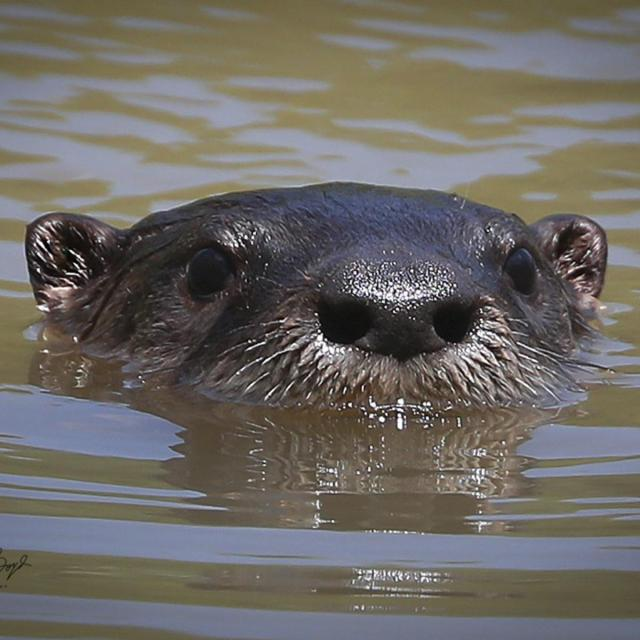Otter: (18, 172, 618, 420)
